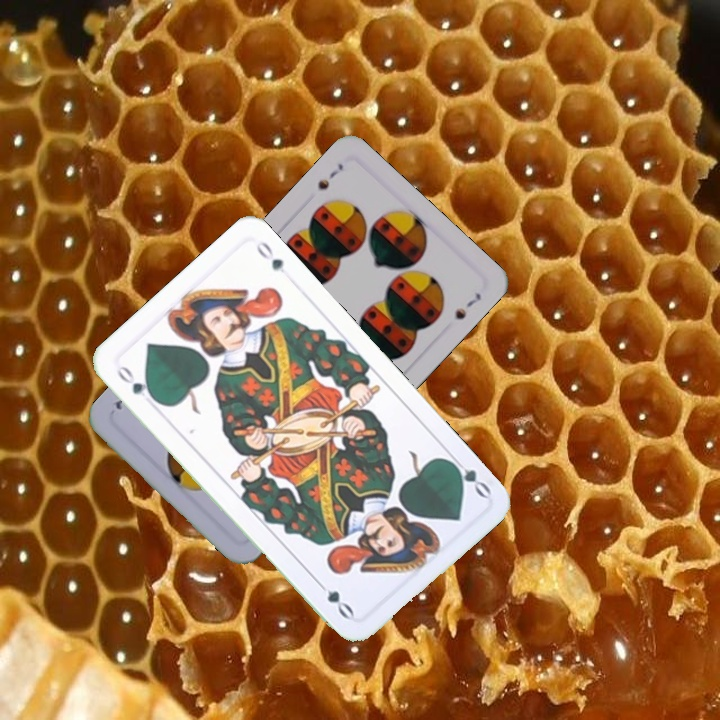GO: (443, 451, 494, 501), (112, 361, 160, 405)
S7: (313, 159, 346, 193)
